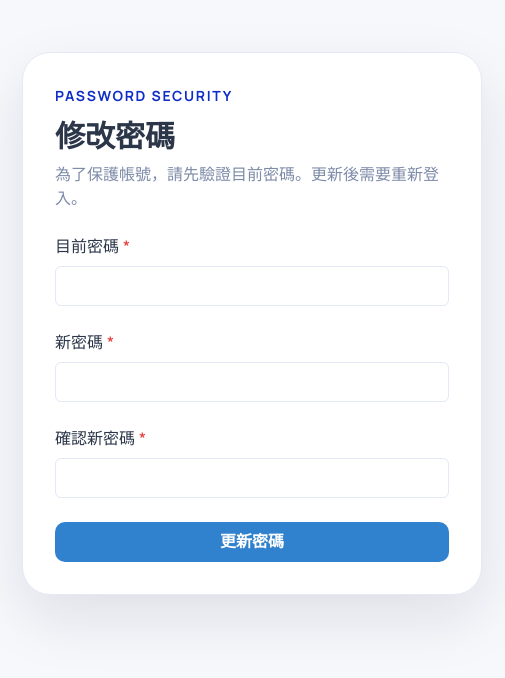
Test case: ChangePassword › maps an incorrect current password safely
This screenshot has width=505, height=678.
Type "old-password-123" into the password field labelled "目前密碼*" at [252, 286], box [55,266,449,306]
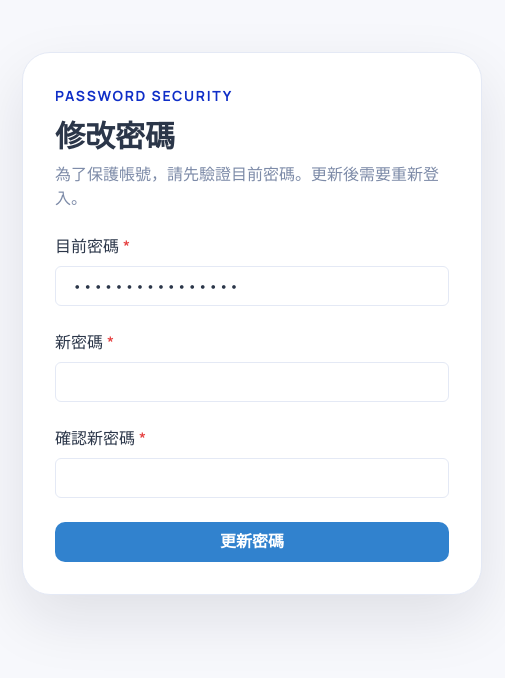
Type "new-password-123" into the password field labelled "新密碼*" at [252, 382], box [55,362,449,402]
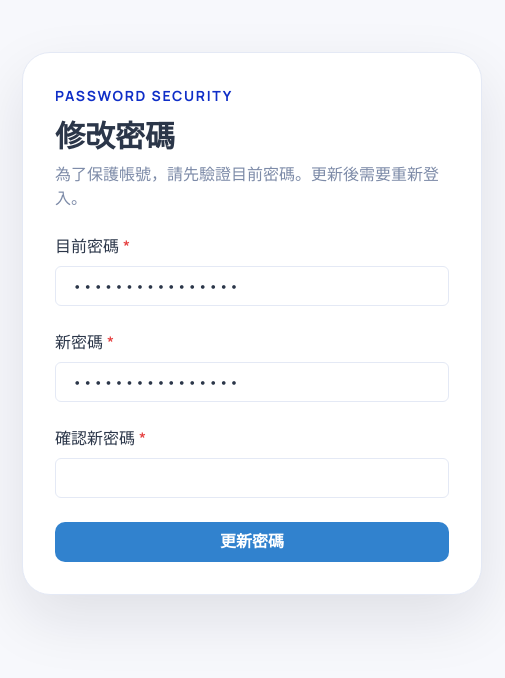
Type "new-password-123" into the password field labelled "確認新密碼*" at [252, 478], box [55,458,449,498]
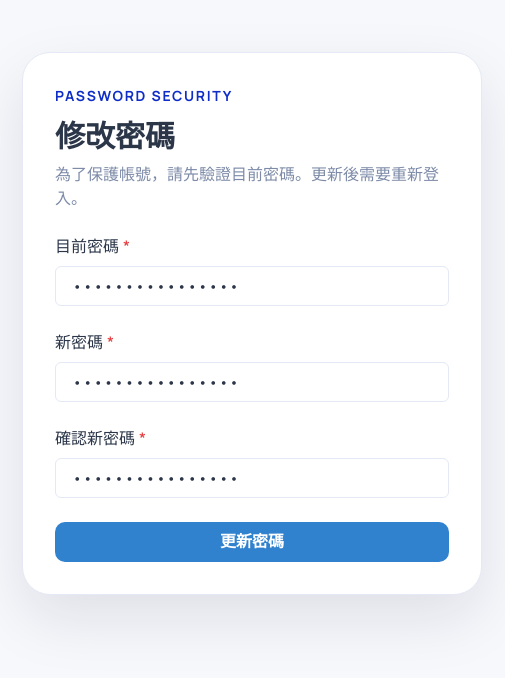
Click the button "更新密碼" at [252, 542], box [55,522,449,562]
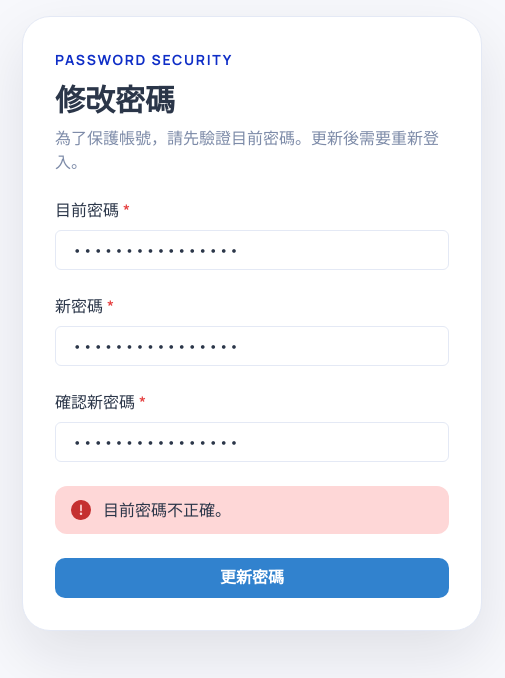
Expected: the text "目前密碼不正確。" is shown, [103,498,231,522]
